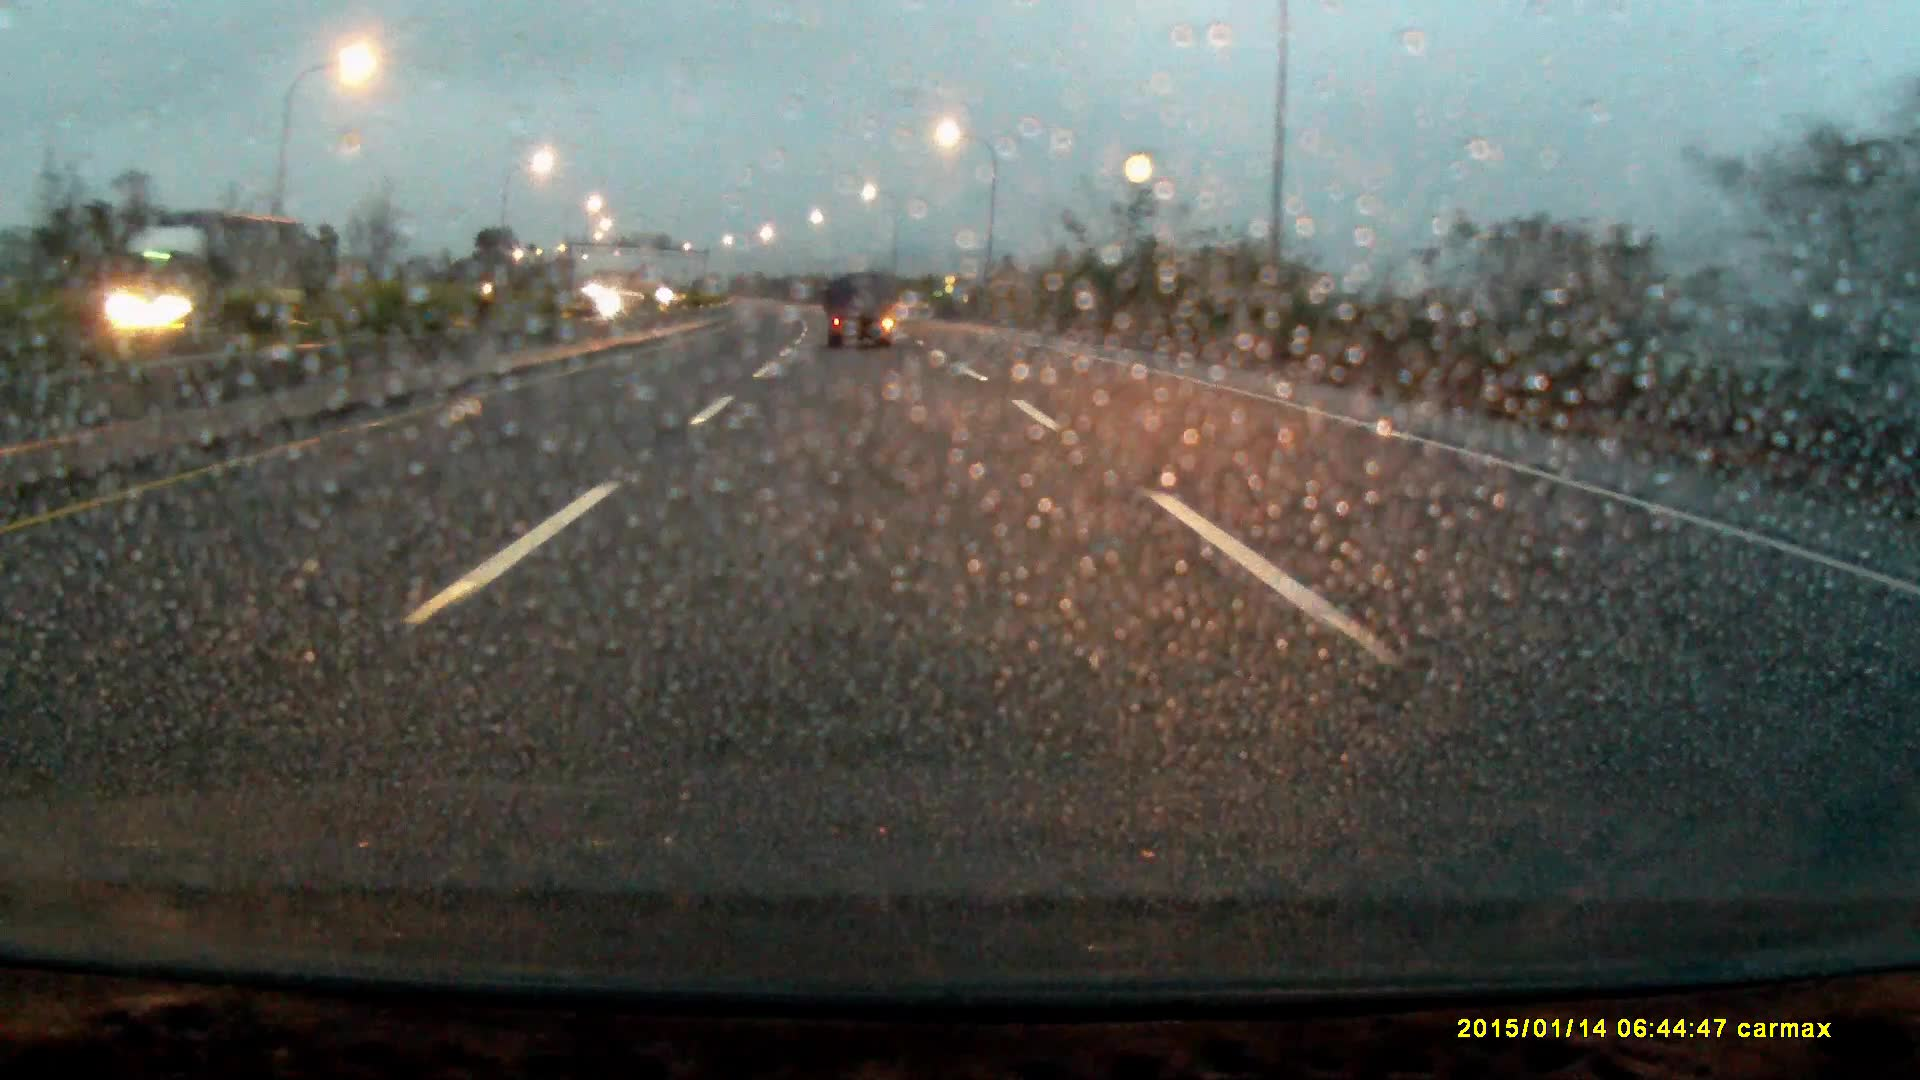vehicle: (94, 216, 324, 377), (825, 277, 899, 349), (597, 291, 640, 314)
